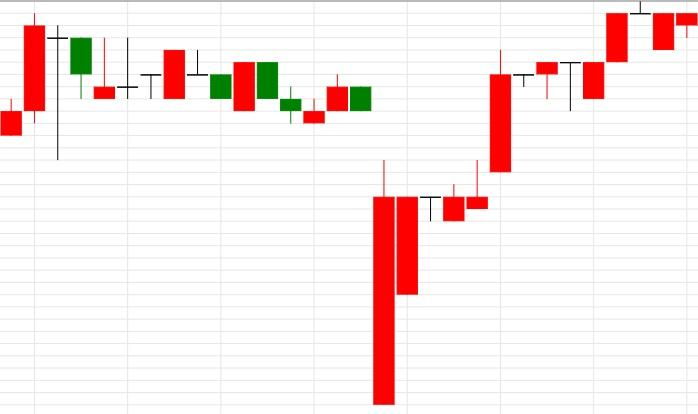inverse_hammer_rise: (23, 13, 116, 161)
shooting_star_fall: (372, 160, 489, 406)
